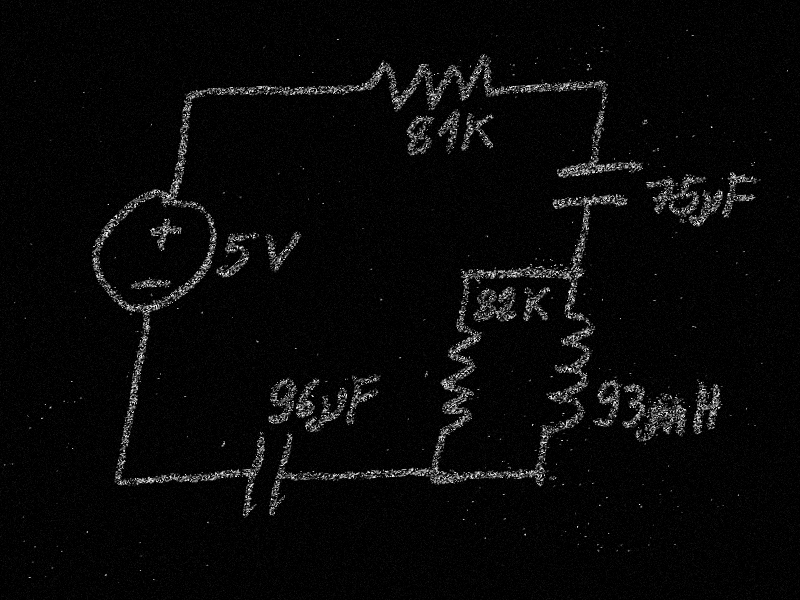-: (127, 275, 176, 291)
1: (432, 107, 464, 158)
2: (495, 284, 522, 323)
3: (617, 382, 649, 429)
5: (215, 228, 260, 281), (674, 168, 707, 220)
6: (293, 376, 321, 419)
7: (640, 175, 681, 219)
8: (401, 112, 437, 158), (470, 286, 499, 324)
9: (261, 376, 299, 426), (590, 378, 623, 429)
F: (344, 372, 382, 426), (721, 169, 760, 221)
H: (688, 377, 725, 435)
V: (257, 229, 304, 275)
k: (460, 108, 500, 157), (519, 285, 554, 324)
m: (642, 401, 690, 441)
u: (312, 388, 349, 432), (697, 189, 723, 225)
